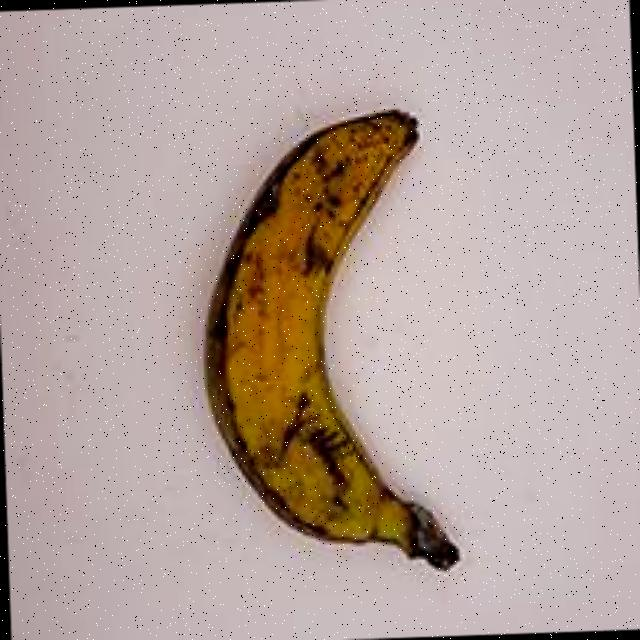Overripe: (132, 76, 518, 594)
